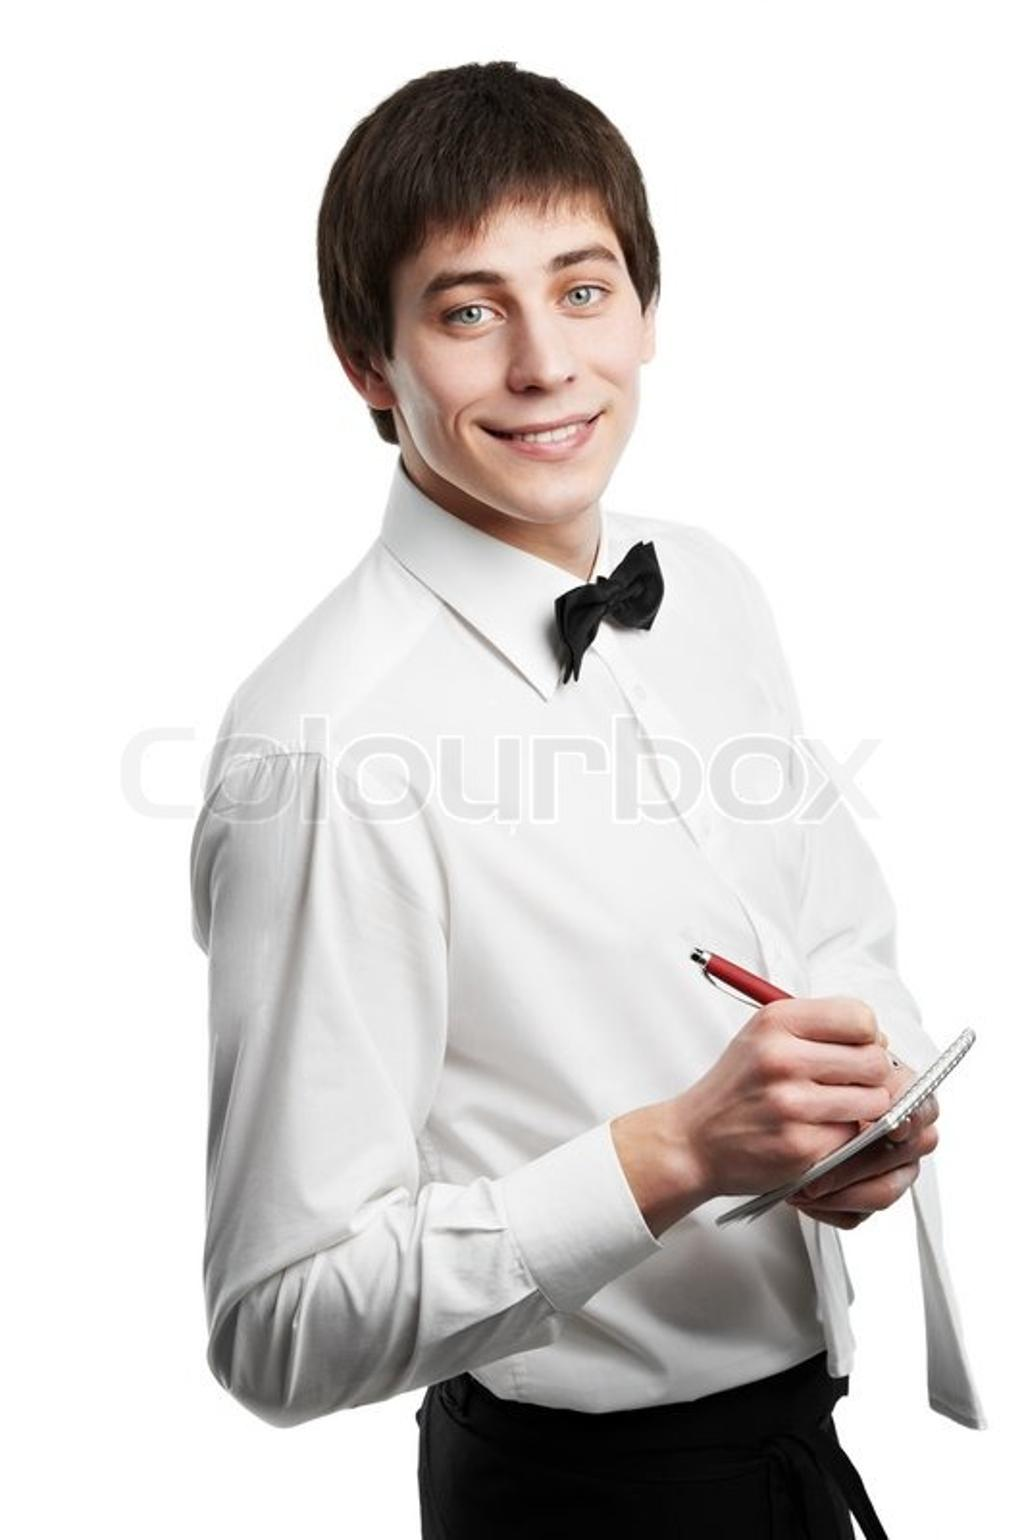face: (386, 139, 645, 525)
